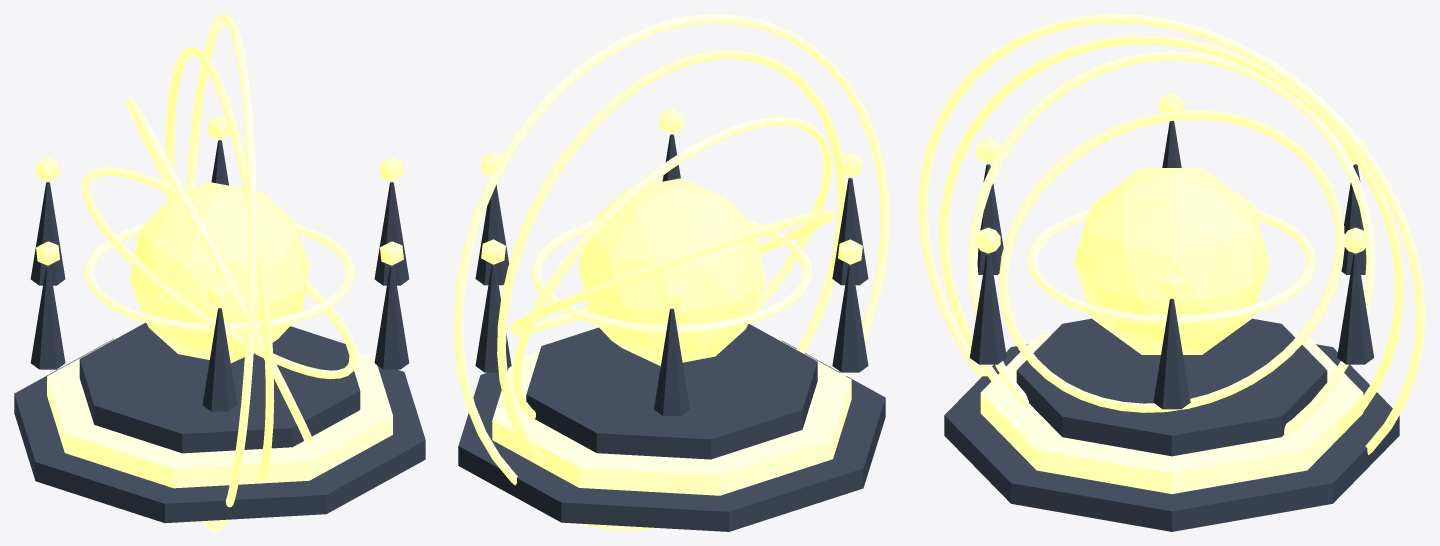
Rendered from gpu-blender-v47.glb.
3 views of the same model, side by side, from view 1: azimuth 30°, elevation 25°; view 2: azimuth 150°, elevation 25°; view 3: azimuth 270°, elevation 25° (orthographic). The views are drawn at different scales.
Parts seen in each view (by area): view 1: Cylinder.002, Cylinder, SovereignCore_muse-code-linux, Cylinder.001, Torus.004, Torus.003, Torus.001, Torus, Torus.002, Cone.004, Cone.003, Cone.005 (+3 smaller); view 2: Cylinder.002, SovereignCore_muse-code-linux, Cylinder, Cylinder.001, Torus.004, Torus.003, Torus.002, Torus.001, Torus, Cone.003, Cone.002, Cone.001 (+2 smaller); view 3: SovereignCore_muse-code-linux, Cylinder.002, Cylinder, Cylinder.001, Torus.004, Torus.001, Torus.003, Torus.002, Torus, Cone, Cone.001, Cone.005 (+3 smaller).
Part boxes in pixels (<box>): Cylinder.002: <box>79,323,360,453</box>; Cylinder: <box>14,339,425,523</box>; SovereignCore_muse-code-linux: <box>130,182,309,363</box>; Cylinder.001: <box>47,330,392,488</box>; Torus.004: <box>186,14,257,531</box>; Torus.003: <box>165,47,274,483</box>; Torus.001: <box>82,166,357,379</box>; Torus: <box>85,223,354,332</box>; Torus.002: <box>126,98,312,442</box>; Cone.004: <box>202,308,237,411</box>; Cone.003: <box>30,266,65,369</box>; Cone.005: <box>374,266,409,369</box>; Cylinder.002: <box>526,324,817,459</box>; SovereignCore_muse-code-linux: <box>578,178,765,366</box>; Cylinder: <box>458,340,885,531</box>; Cylinder.001: <box>492,331,851,495</box>; Torus.004: <box>454,14,889,530</box>; Torus.003: <box>497,49,846,466</box>; Torus.002: <box>512,116,831,419</box>; Torus.001: <box>510,209,833,334</box>; Torus: <box>531,220,812,333</box>; Cone.003: <box>832,265,868,372</box>; Cone.002: <box>654,308,689,415</box>; Cone.001: <box>475,265,511,372</box>; SovereignCore_muse-code-linux: <box>1073,168,1270,354</box>; Cylinder.002: <box>1016,318,1327,456</box>; Cylinder: <box>944,344,1399,531</box>; Cylinder.001: <box>980,332,1363,493</box>; Torus.004: <box>918,14,1425,454</box>; Torus.001: <box>999,110,1344,412</box>; Torus.003: <box>939,35,1404,437</box>; Torus.002: <box>968,51,1375,435</box>; Torus: <box>1027,209,1316,324</box>; Cone: <box>1153,298,1190,409</box>; Cone.001: <box>1337,254,1374,364</box>; Cone.005: <box>969,254,1006,364</box>.
Size of the model in its own units: 4.41 by 5.33 by 4.9.
